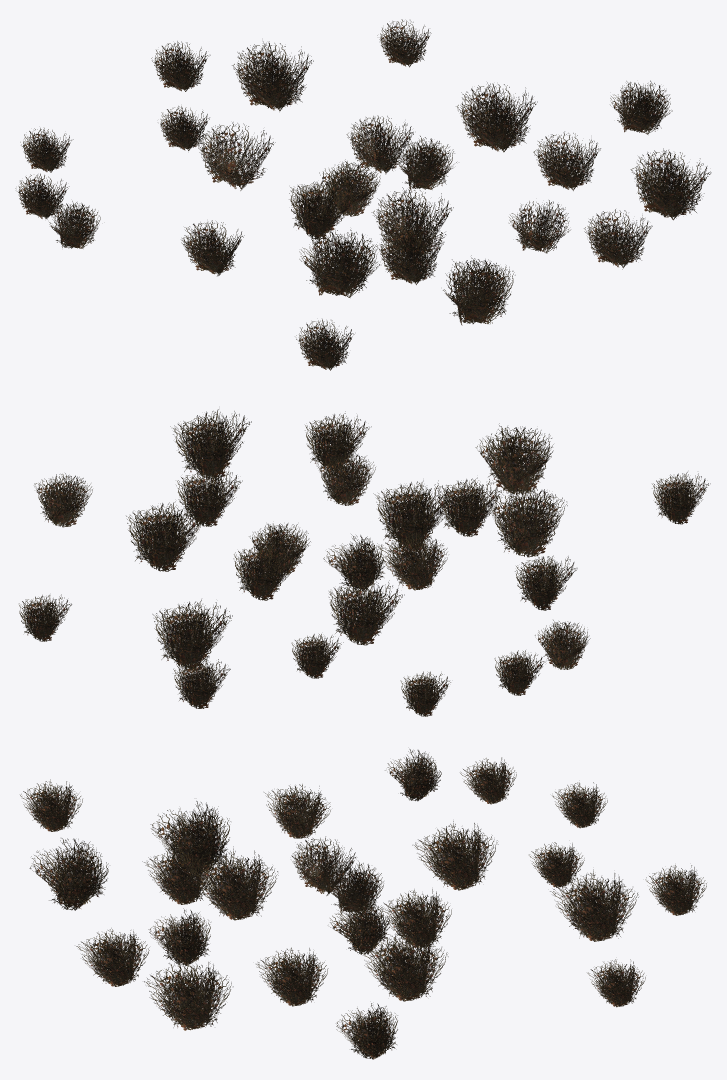
File: plant_kust_01_many.fbx
3 renders of one model, top to bottom at view 1: azimuth 30°, elevation 25°; view 2: azimuth 150°, elevation 25°; view 3: azimuth 270°, elevation 25°, orthographic. The views are drawn at different scales.
Parts seen in each view (by area): view 1: kust_01_many_01; view 2: kust_01_many_01; view 3: kust_01_many_01.
Part boxes in pixels (x1,y1,x2,y2): kust_01_many_01: (15, 19, 711, 370); kust_01_many_01: (19, 409, 710, 716); kust_01_many_01: (20, 749, 706, 1059).
Bounding box in the file's own units: 3223 × 350 × 3357.
